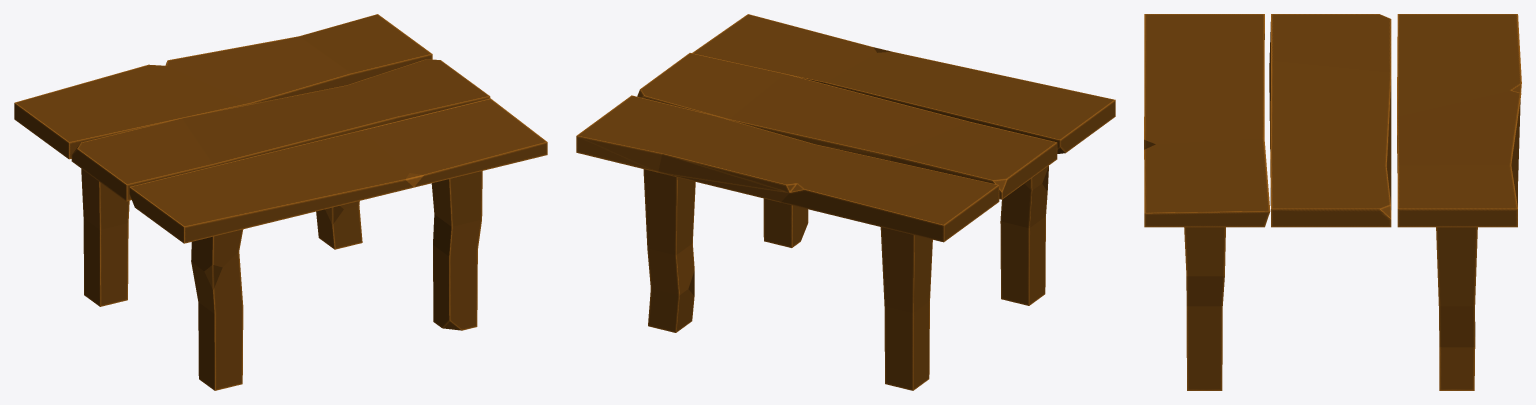
The model's file is table.glb.
The picture shows the model from 3 angles, left to right: view 1: azimuth 30°, elevation 25°; view 2: azimuth 150°, elevation 25°; view 3: azimuth 270°, elevation 25°; orthographic projection. The views are drawn at different scales.
Visible parts, largest first — view 1: Table 1; view 2: Table 1; view 3: Table 1.
Part boxes in pixels (x1,y1,x2,y2): Table 1: (14, 14, 547, 390); Table 1: (576, 14, 1115, 390); Table 1: (1144, 14, 1521, 390).
Size of the model in its own units: 1.24 by 0.6317 by 1.01.
Materials: 1 (1 with a texture image).
